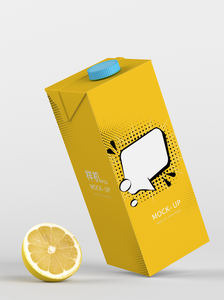carton: (43, 48, 217, 283)
